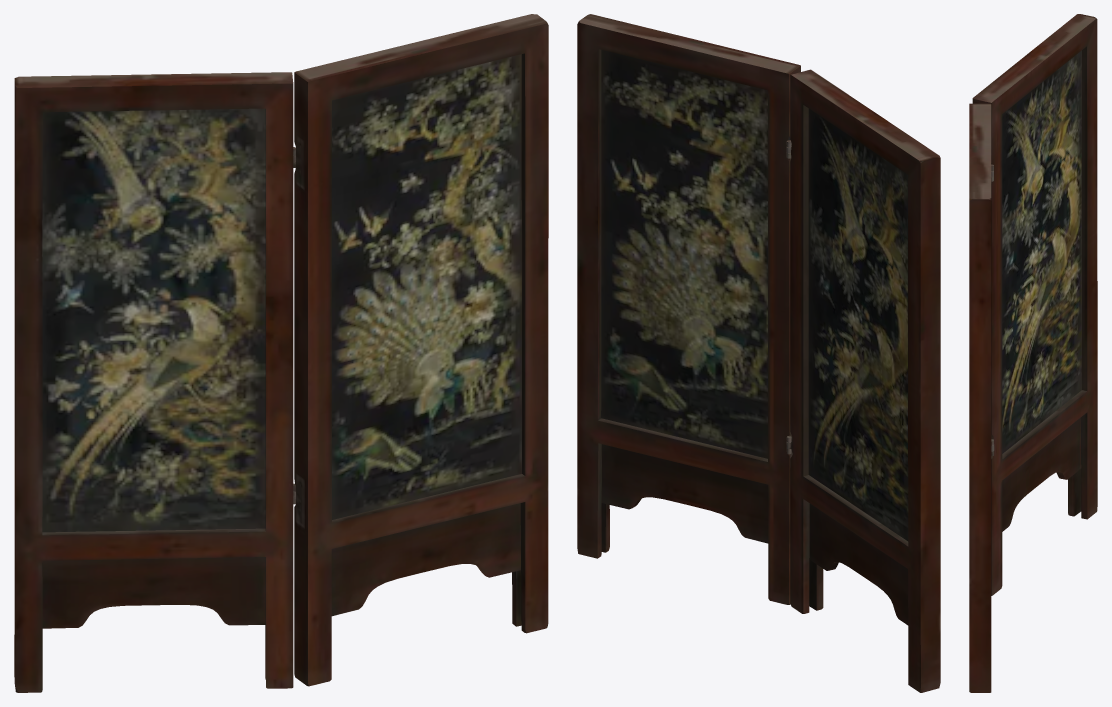
Rendered from screen.glb.
3 renders of one model, left to right at view 1: azimuth 30°, elevation 25°; view 2: azimuth 150°, elevation 25°; view 3: azimuth 270°, elevation 25°, orthographic. The views are drawn at different scales.
Visible parts, largest first — view 1: screen; view 2: screen; view 3: screen.
Part boxes in pixels (box(x1,y1,x2,y2)): screen: box(14, 14, 548, 692); screen: box(577, 14, 940, 692); screen: box(969, 14, 1097, 692).
Bounding box in the file's own units: 1.29 × 1.6 × 0.3769.
1 material, 1 textured.
